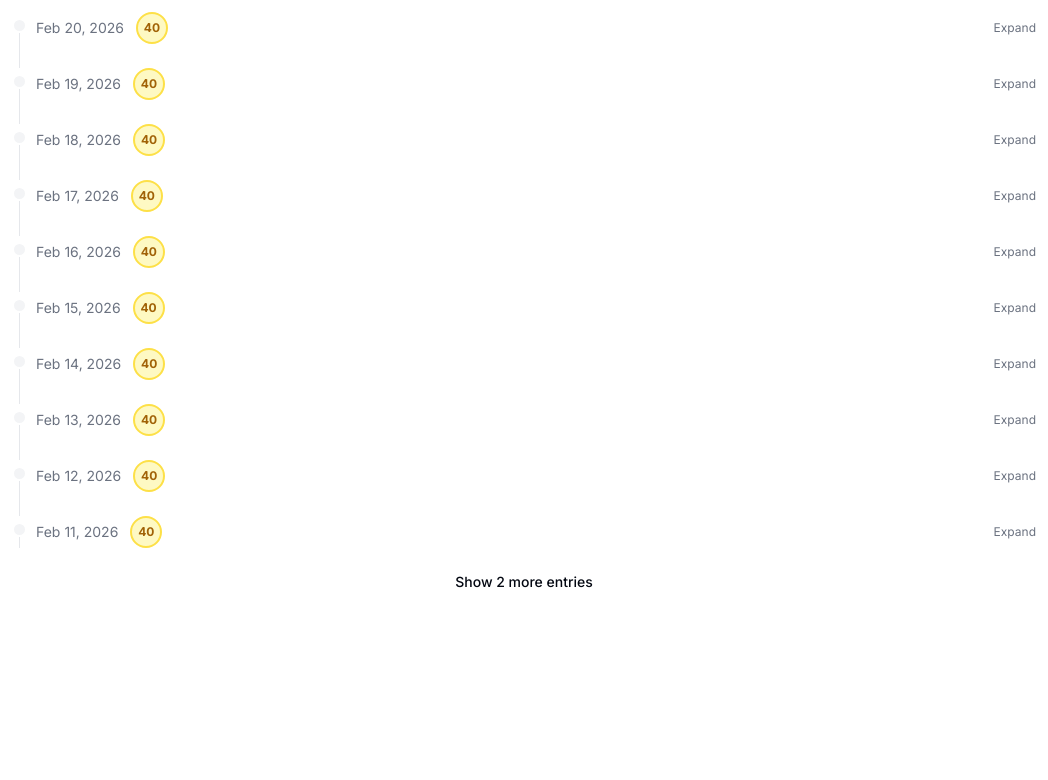
Test: AnalysisHistory › shows all entries after clicking "Show more" button
Click the button "Show 2 more entries".
click(524, 582)  # box [12,564,1036,600]
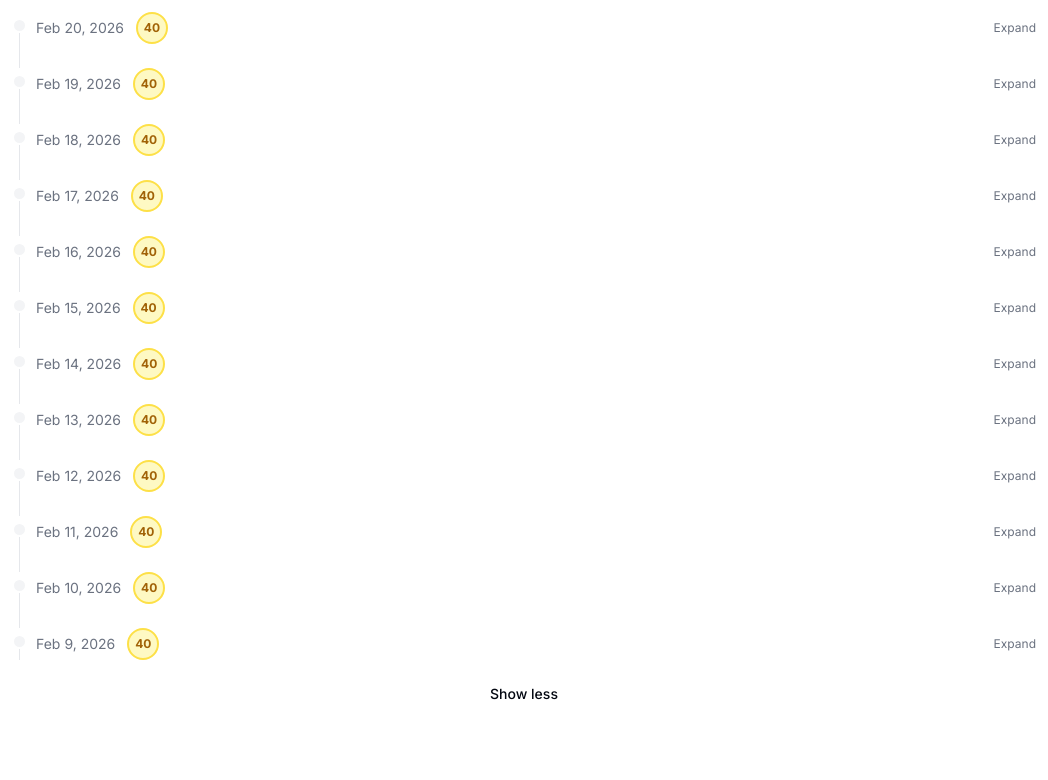
Result: the button "Show less" is shown at [12,676,1036,712]
